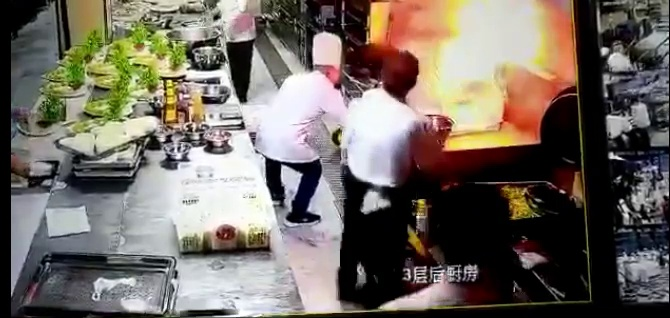fire: (438, 4, 561, 97)
